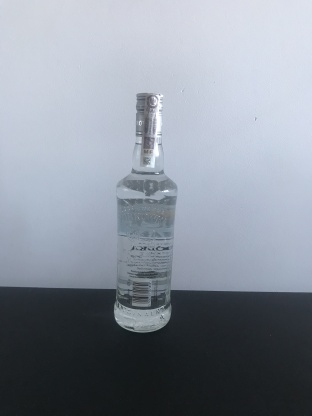nakretka: (133, 87, 166, 138)
